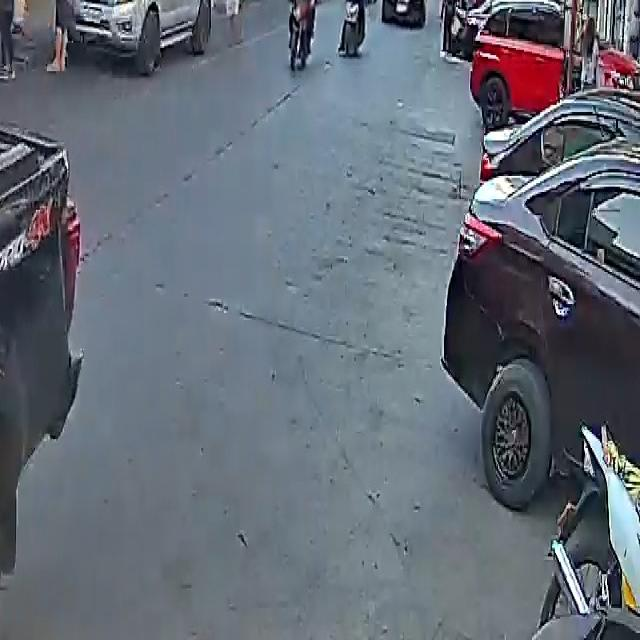car: (443, 84, 640, 526), (0, 0, 86, 636), (466, 0, 576, 123), (74, 0, 219, 75), (381, 0, 426, 25)
